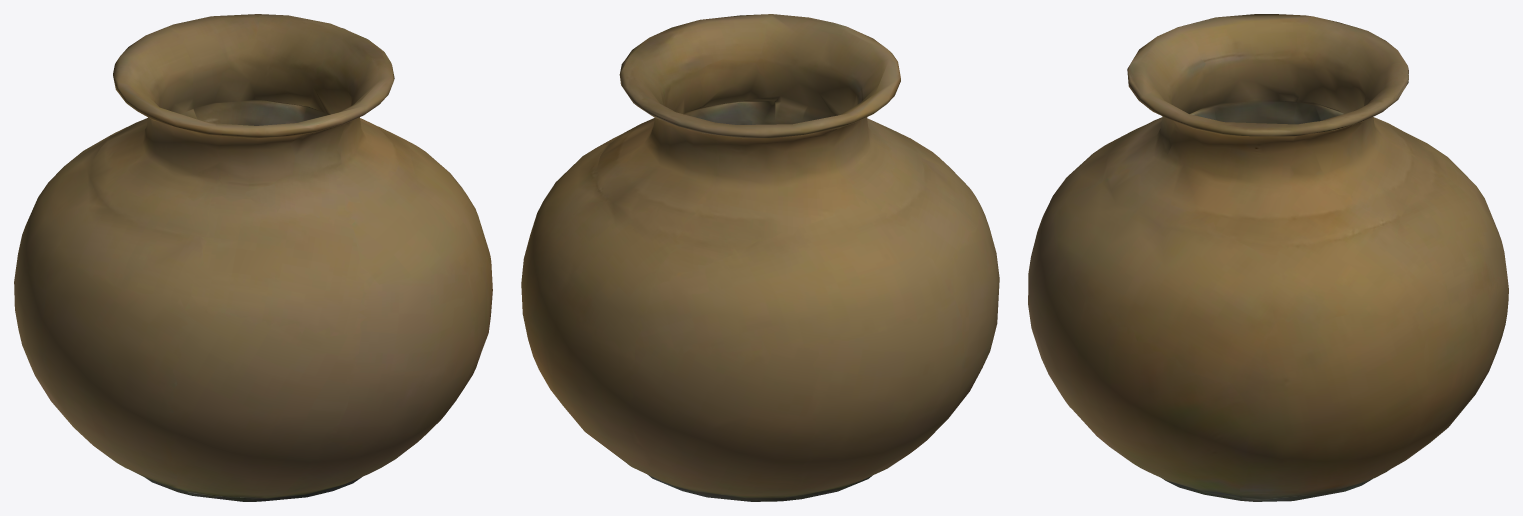
Rendered from brass-vase.glb.
3 renders of one model, left to right at view 1: azimuth 30°, elevation 25°; view 2: azimuth 150°, elevation 25°; view 3: azimuth 270°, elevation 25°, orthographic.
Visible parts, largest first — view 1: input; view 2: input; view 3: input.
Boxes of the visible parts, x1,y1,x2,y2 form: input: (14,14,492,501); input: (521,14,999,501); input: (1028,14,1508,501).
Bounding box in the file's own units: 0.1987 × 0.1721 × 0.1996.
Materials: 1 (1 with a texture image).
